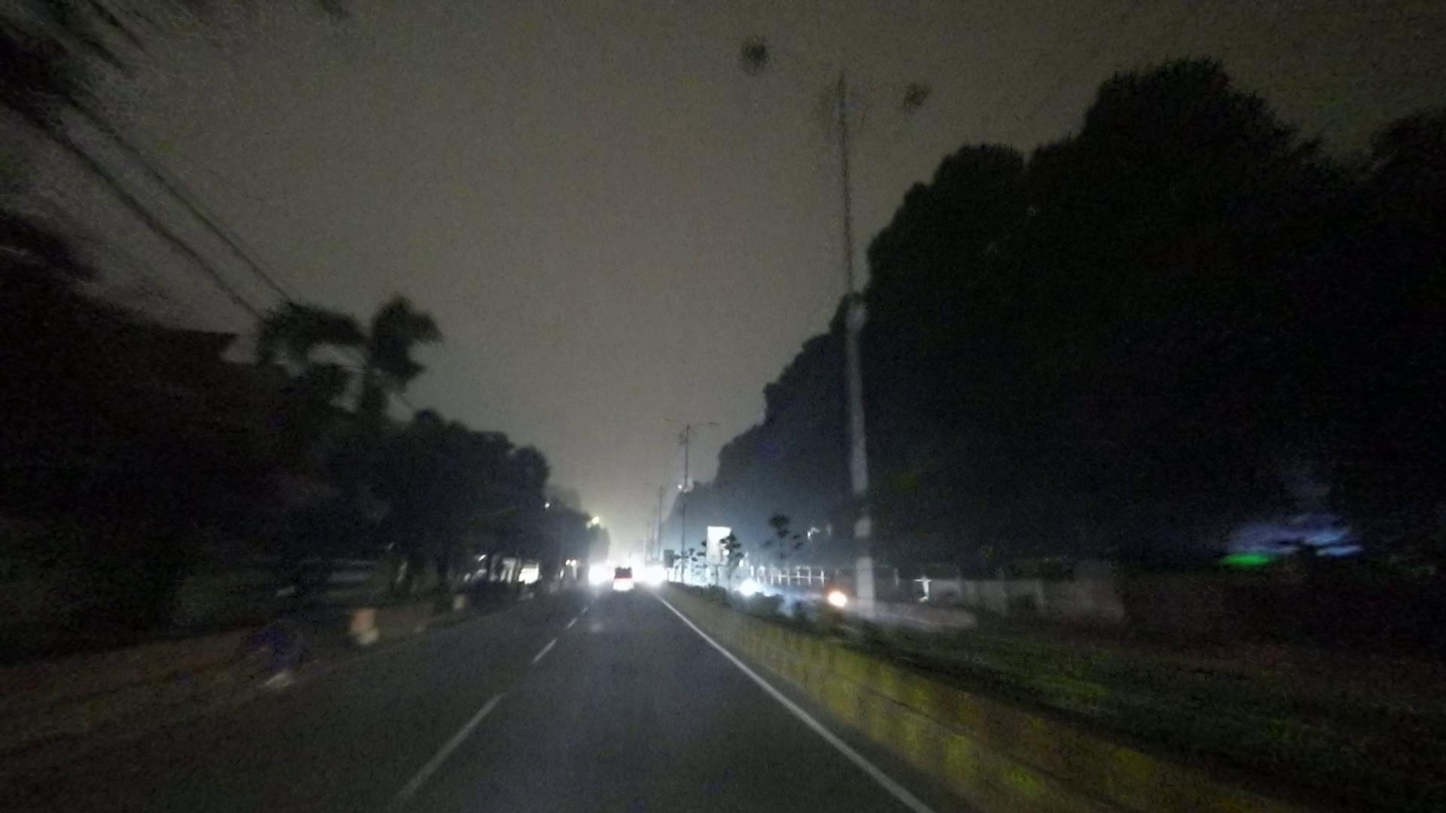streetlight: (735, 29, 829, 86), (858, 58, 937, 117)
